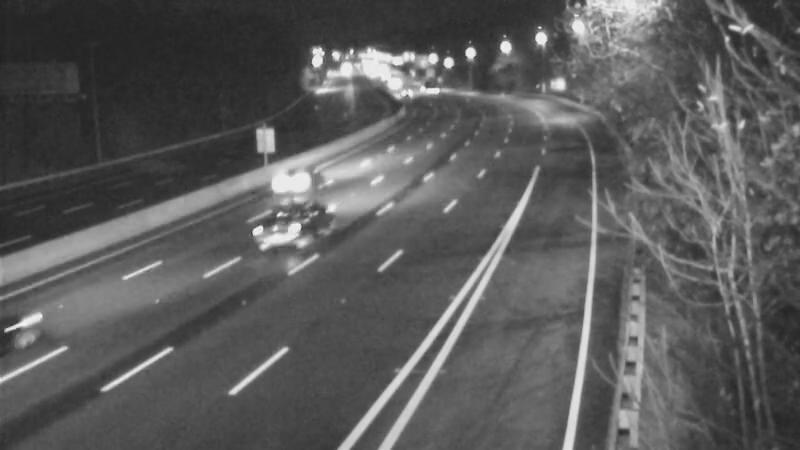vehicle: (1, 268, 91, 378), (253, 143, 333, 223), (262, 187, 342, 267), (403, 62, 453, 112), (378, 67, 428, 117)
